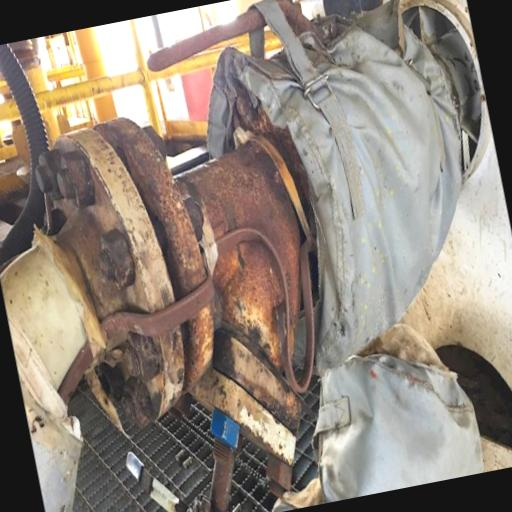segmentation: (22, 109, 324, 489), (147, 59, 314, 435), (358, 108, 512, 446), (91, 332, 165, 435), (148, 10, 266, 67), (60, 341, 95, 397), (211, 443, 233, 512), (264, 456, 296, 502), (10, 39, 41, 70), (0, 82, 20, 121)
